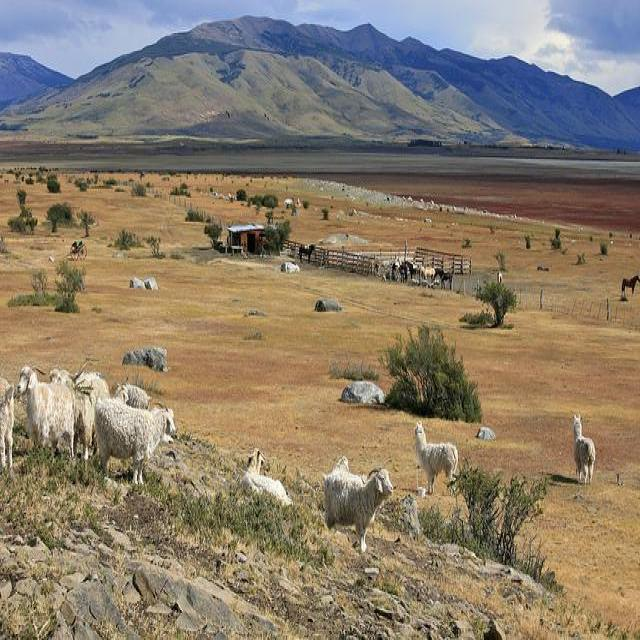Sheep: (98, 402, 176, 486), (321, 466, 394, 553), (19, 364, 78, 463), (50, 370, 101, 474), (415, 421, 459, 496), (244, 448, 294, 505)
